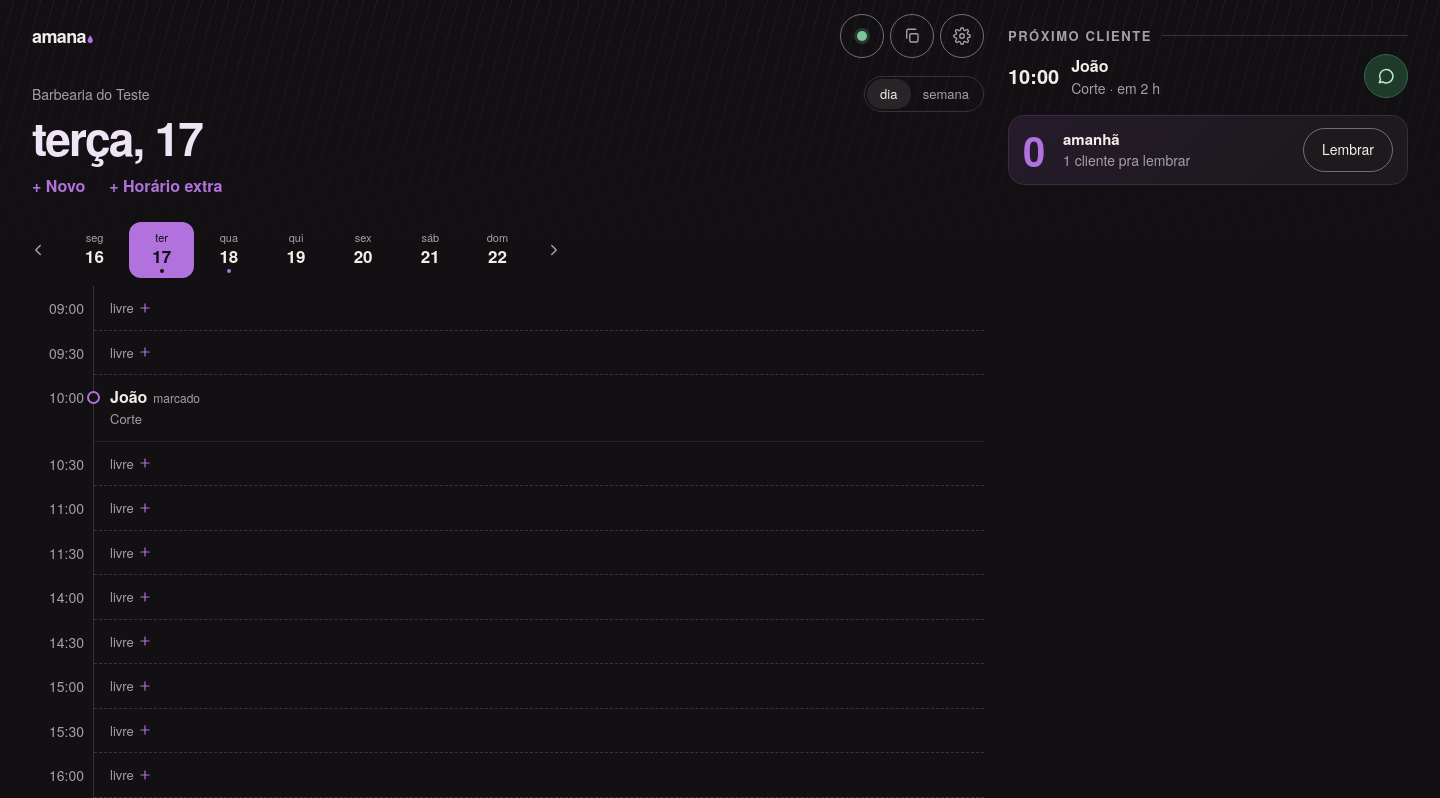
Test: Agenda › na tela larga, a grade continua usável com o painel lateral aberto
Click the button "10:00 João marcado Corte".
click(508, 408)  # box [32,375,984,442]
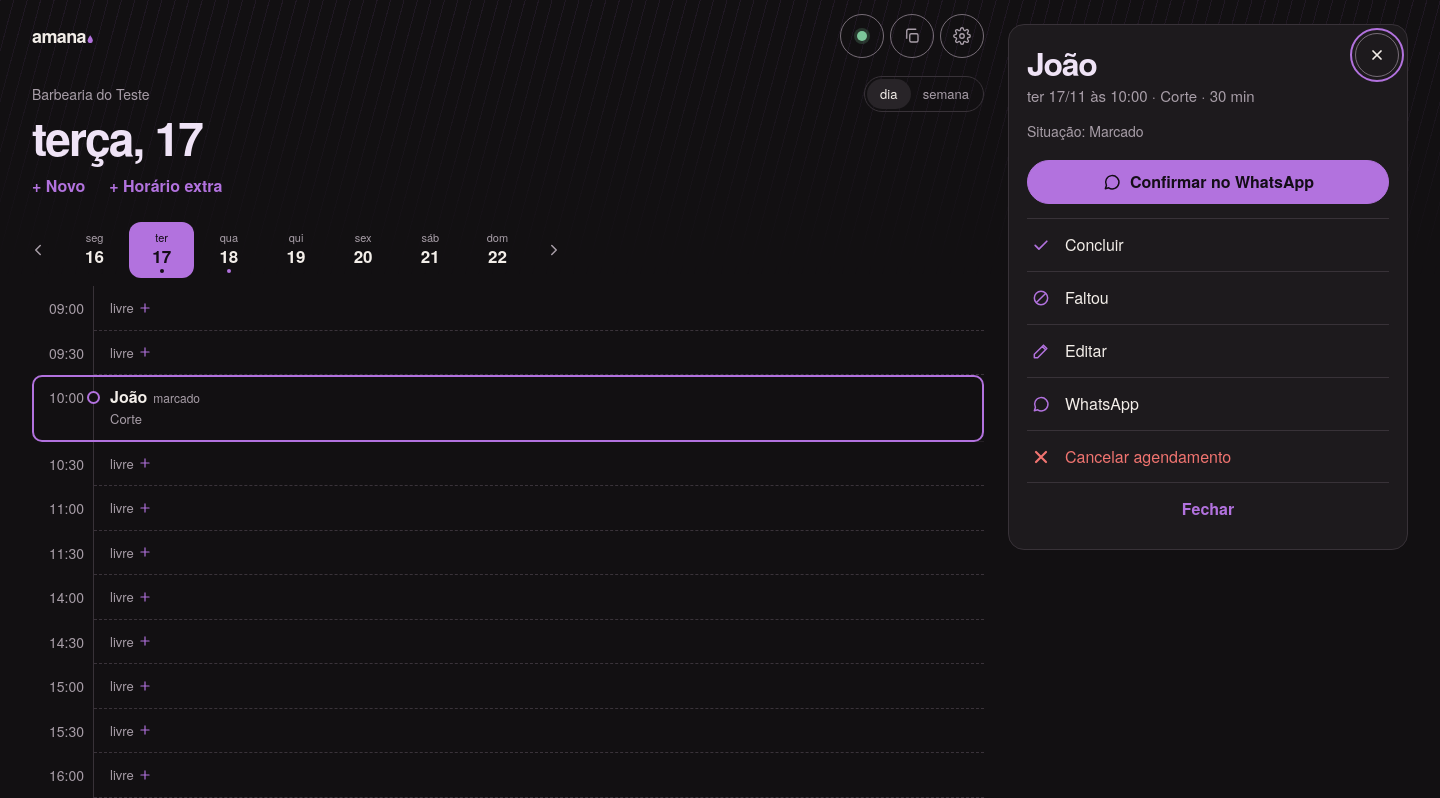
Click the button with aria-label "Marcar ter 17/11 às 09:00".
click(508, 308)  # box [32,286,984,330]
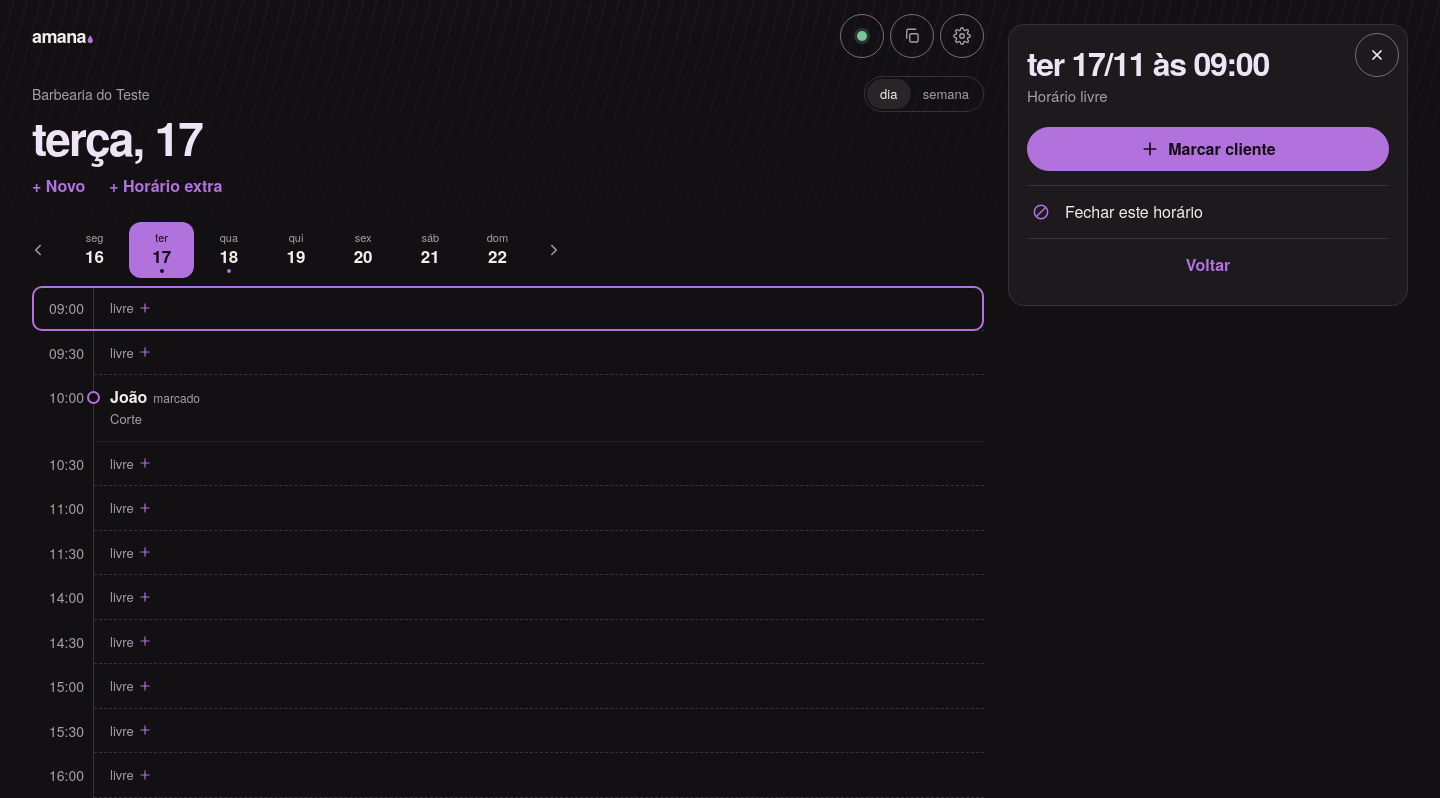
Now the element "Horário livre" is shown, box [1008,24,1408,306]
